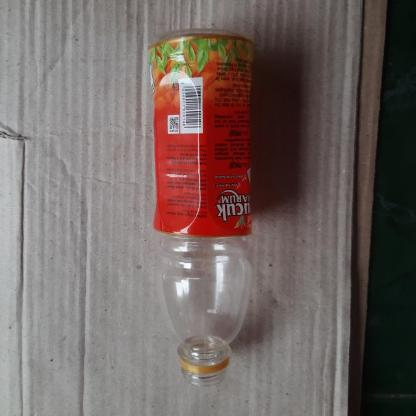Plastic Bottle: (150, 30, 252, 386)
